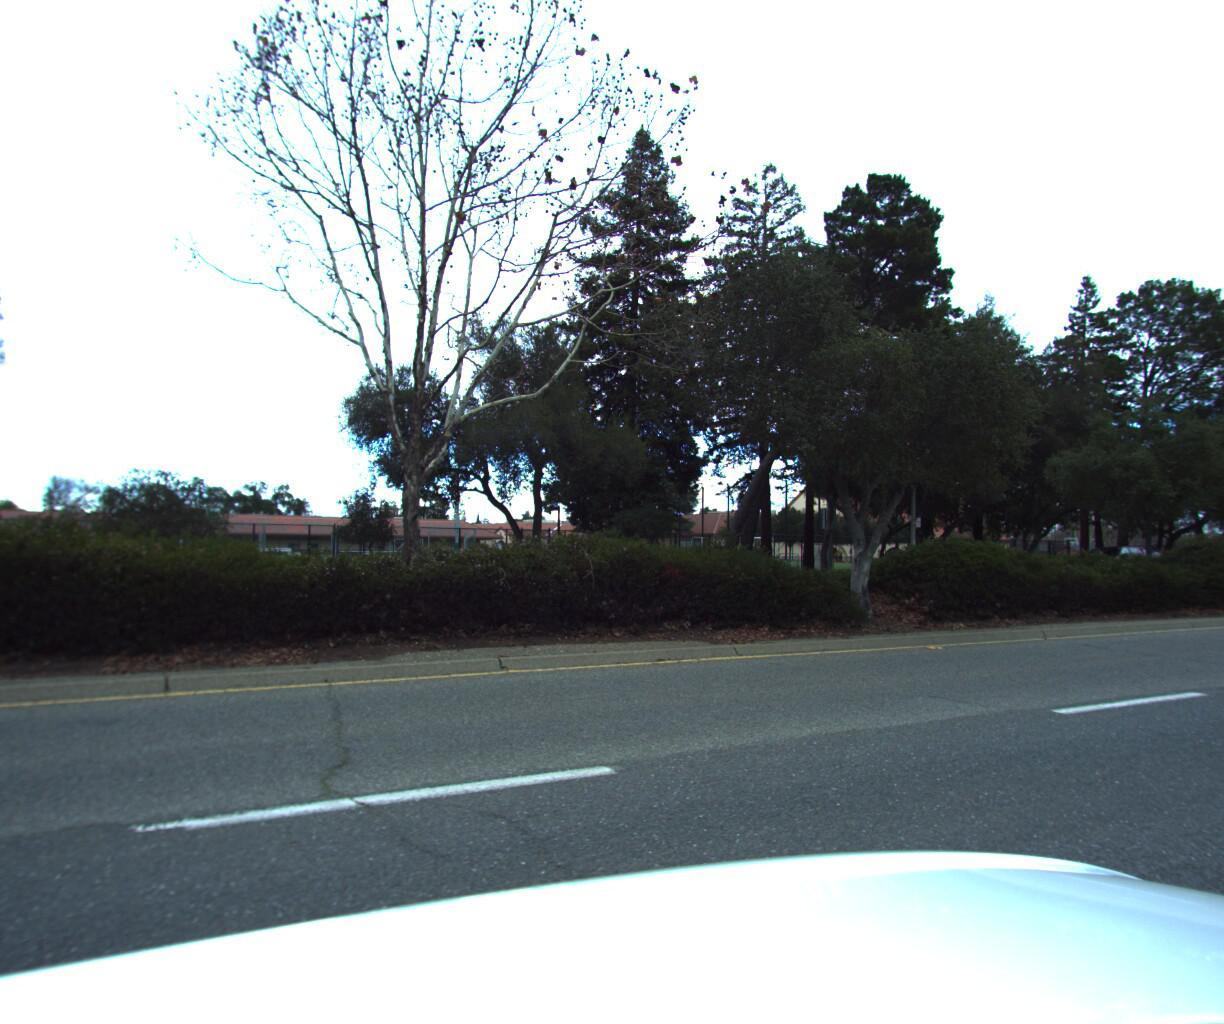car: (1056, 537, 1164, 580)
